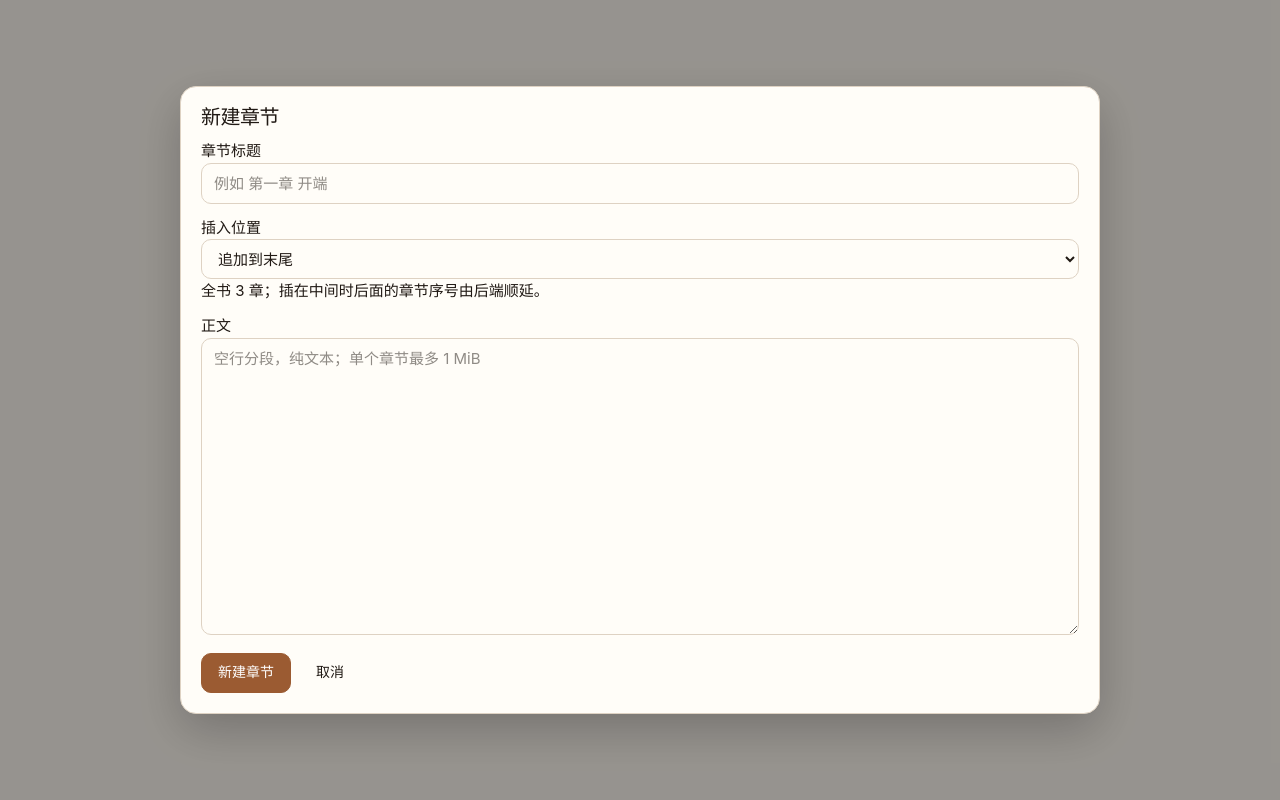
it: 新建章节面板 › 失败把后端人话留在面板上并通知外层，面板不关
Type "第九章 归来" into the field with test id "new-chapter-name" at (640, 183), box [201,162,1079,204]
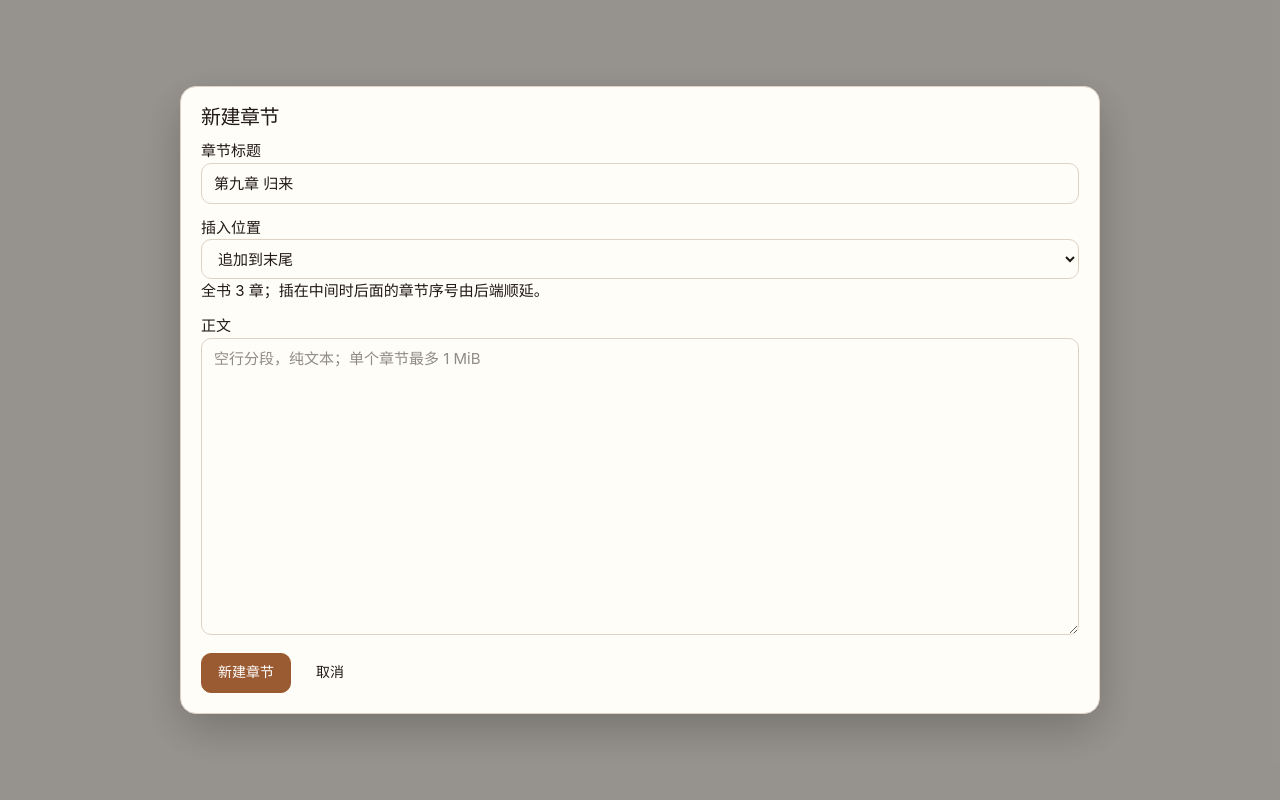
Type "正文" into the text box with test id "new-chapter-content" at (640, 486), box [201,338,1079,634]
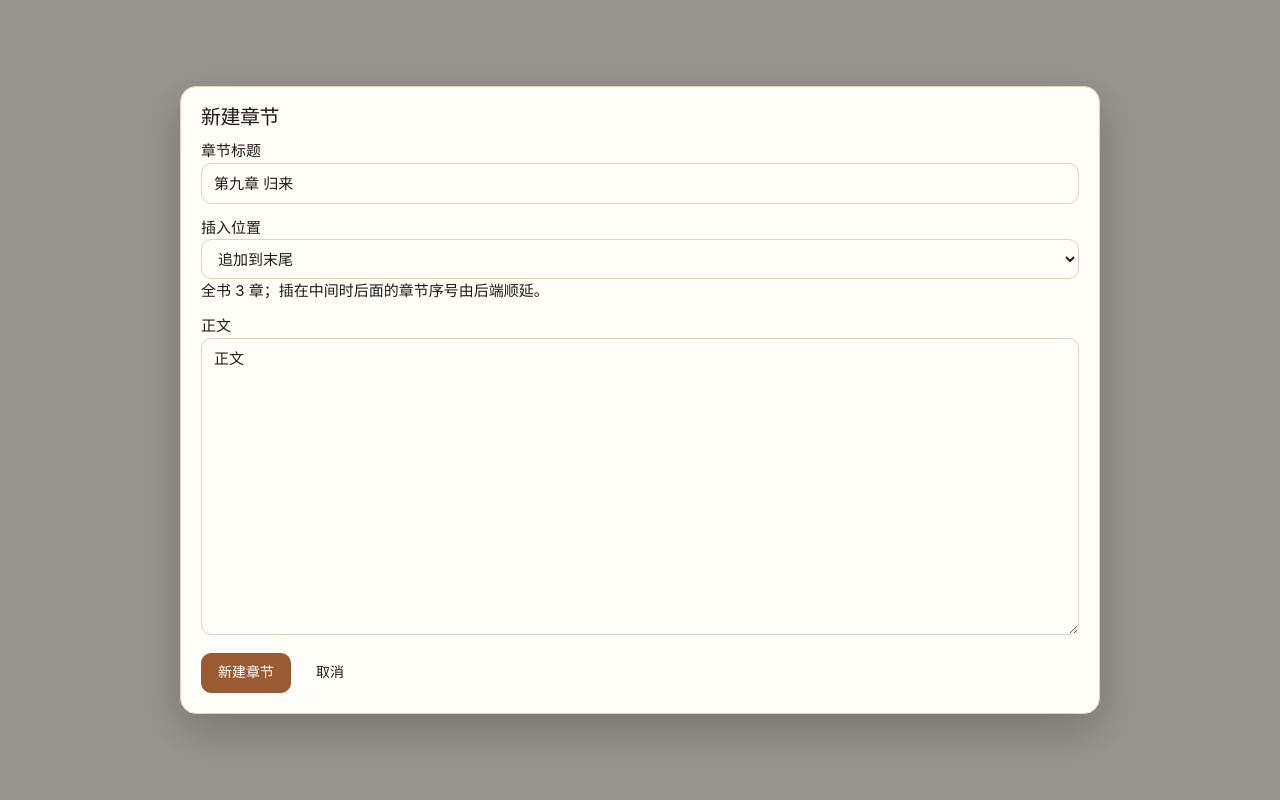
Click the button with test id "new-chapter-save" at (246, 673), box [201,653,291,693]
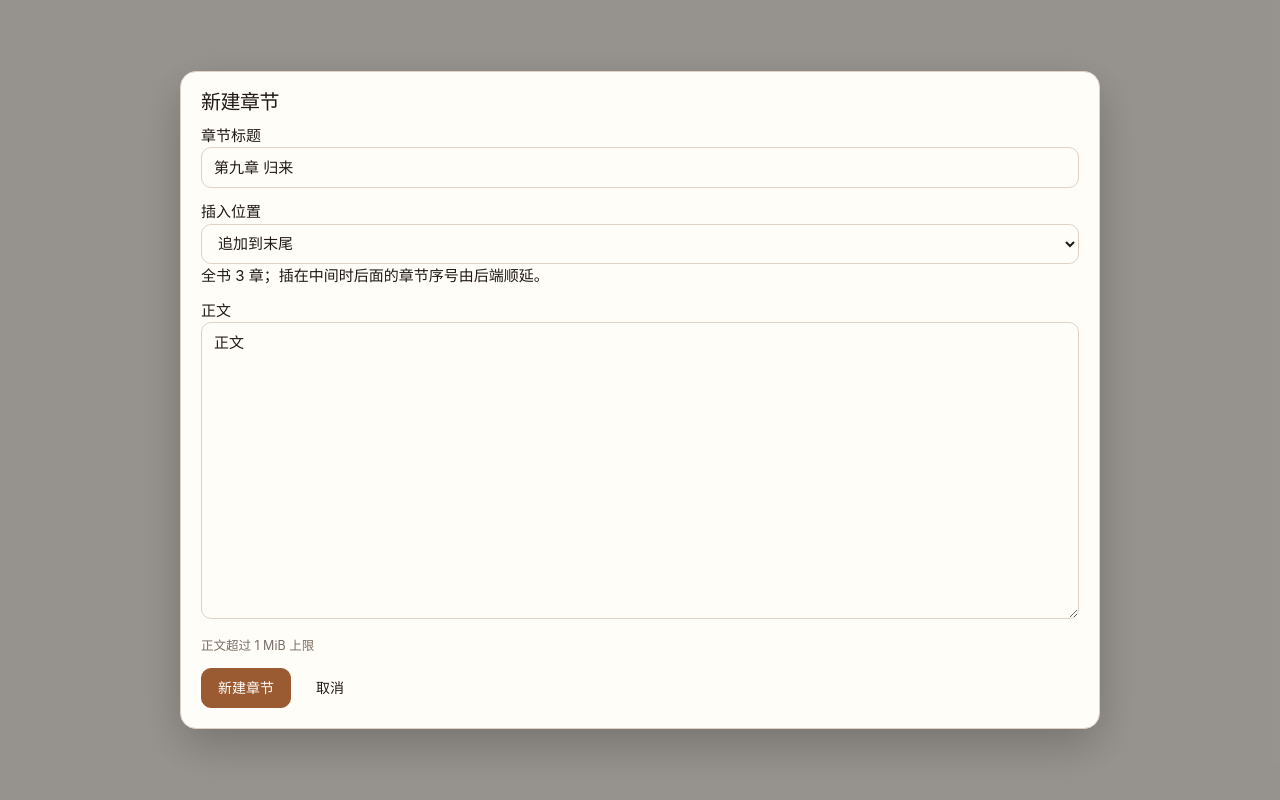
Expected: the message with test id "new-chapter-error" shows "1 MiB", [201,638,314,653]
